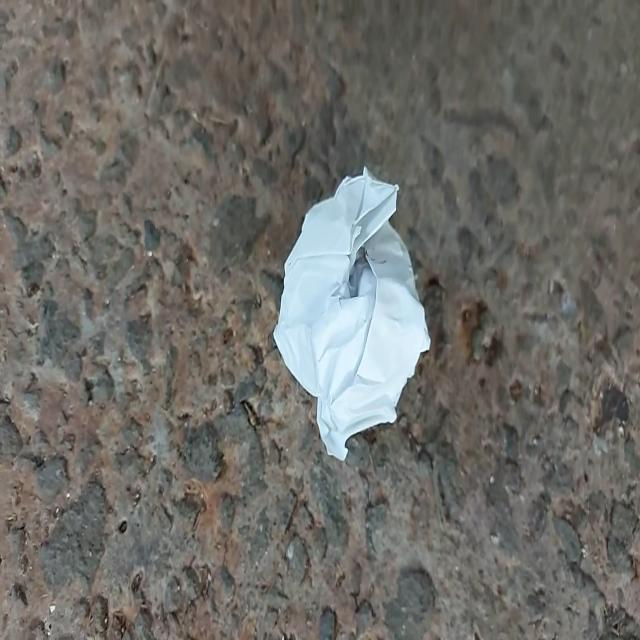Paper: (259, 146, 439, 464)
